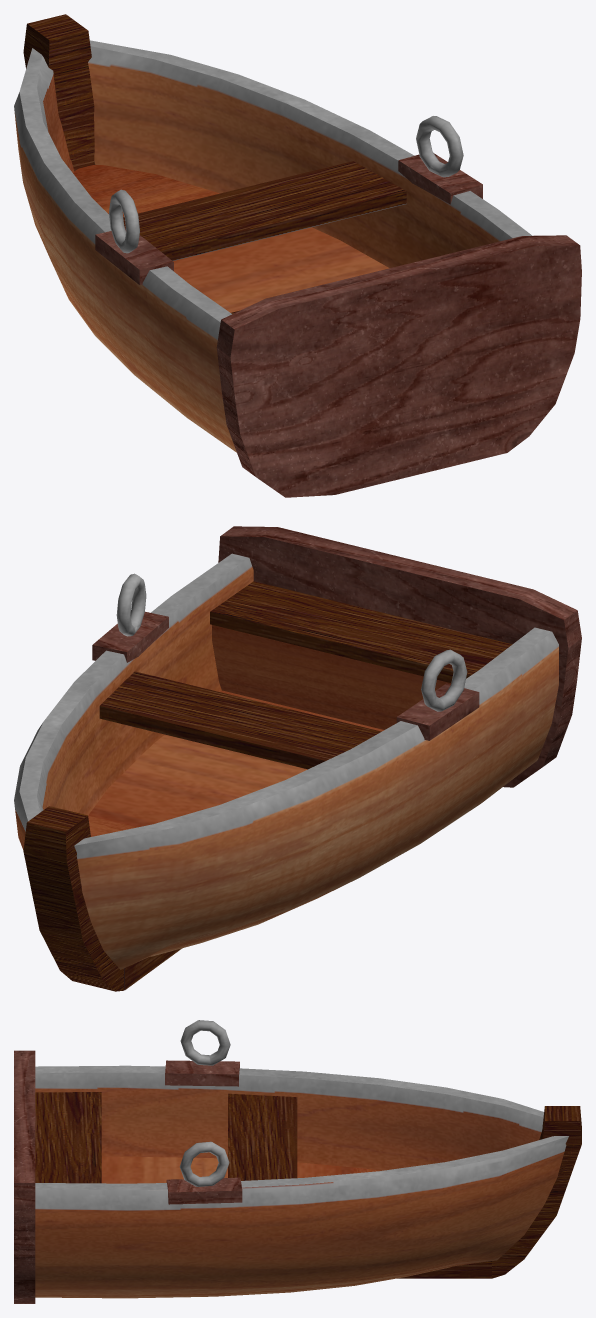
3 views of the same model, one above another, from view 1: azimuth 30°, elevation 25°; view 2: azimuth 150°, elevation 25°; view 3: azimuth 270°, elevation 25° (orthographic). The views are drawn at different scales.
Visible parts, largest first — view 1: boat_Material #25_0; view 2: boat_Material #25_0; view 3: boat_Material #25_0.
Part boxes in pixels (x1=…): boat_Material #25_0: x1=14, y1=14, x2=581, y2=497; boat_Material #25_0: x1=14, y1=526, x2=581, y2=991; boat_Material #25_0: x1=14, y1=1020, x2=581, y2=1303.
Bounding box in the file's own units: 35.63 × 23.19 × 63.58.
Materials: 1 (1 with a texture image).
